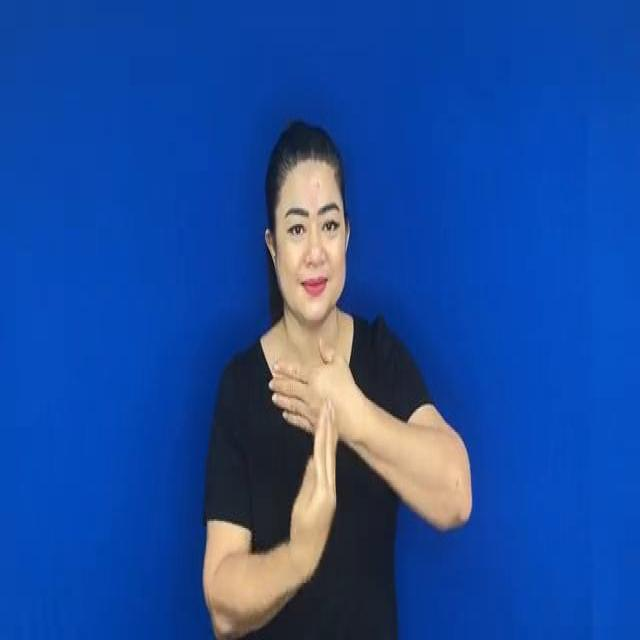bread: (259, 340, 364, 572)
